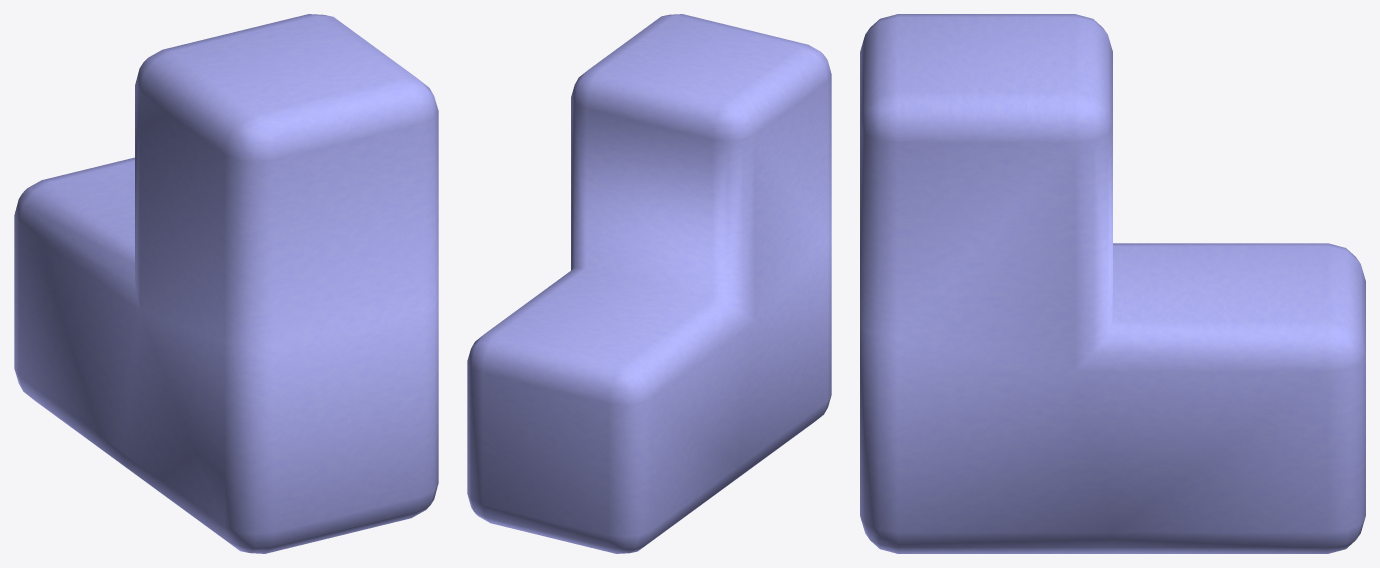
Rendered from __clay_block_03_5.obj.
The picture shows the model from 3 angles, left to right: view 1: azimuth 30°, elevation 25°; view 2: azimuth 150°, elevation 25°; view 3: azimuth 270°, elevation 25°; orthographic projection. The views are drawn at different scales.
Visible parts, largest first — view 1: clay_block_5; view 2: clay_block_5; view 3: clay_block_5.
Boxes of the visible parts, box(x1,y1,x2,y2) form: clay_block_5: box(14, 14, 438, 553); clay_block_5: box(467, 14, 831, 553); clay_block_5: box(860, 14, 1365, 553).
Bounding box in the file's own units: 1 × 2 × 2.
Materials: 1 (1 with a texture image).
